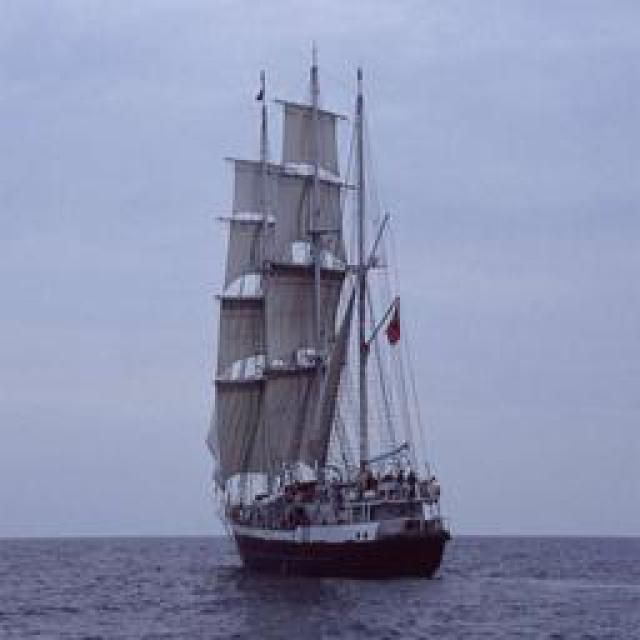Ship: (209, 50, 459, 588)
